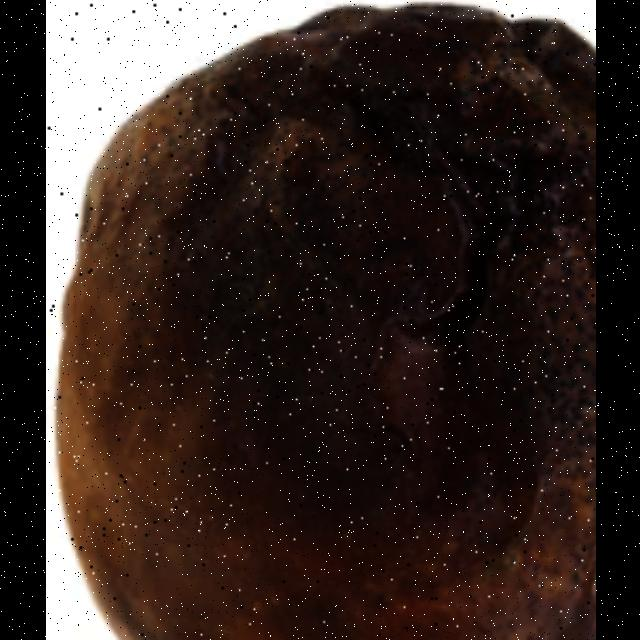Apel Tidak Segar: (57, 0, 595, 640)
